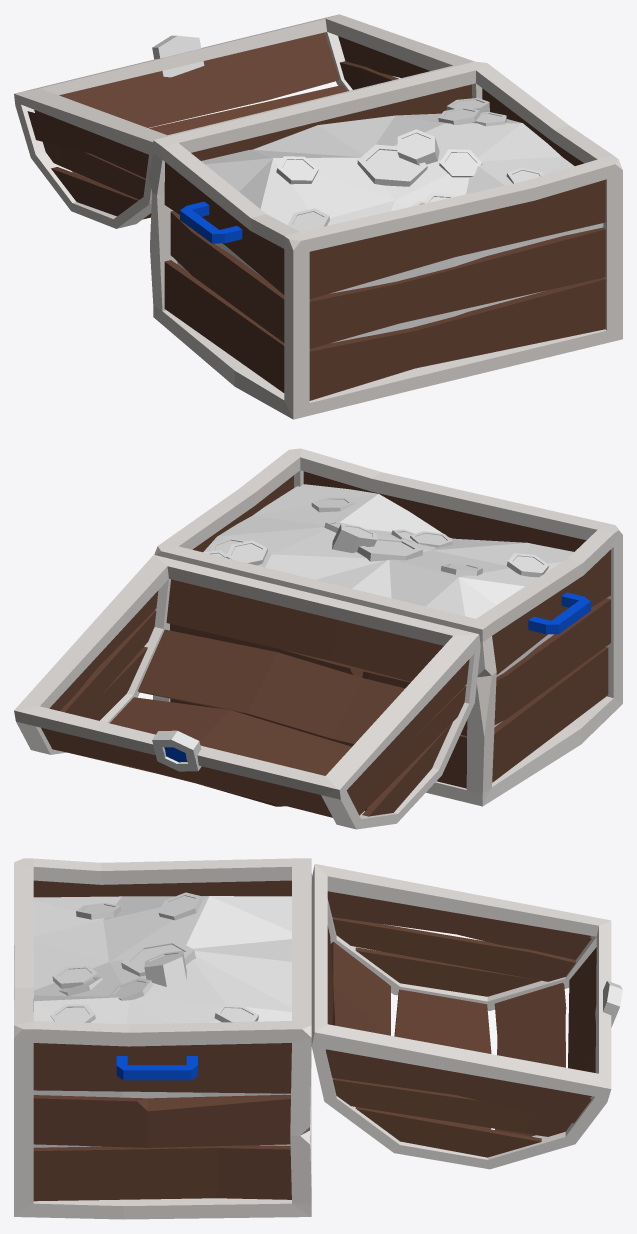
File: Treasure Chest Open.fbx
3 views of the same model, one above another, from view 1: azimuth 30°, elevation 25°; view 2: azimuth 150°, elevation 25°; view 3: azimuth 270°, elevation 25° (orthographic). The views are drawn at different scales.
Parts seen in each view (by area): view 1: Treasure Chest, Treasure Chest Lid; view 2: Treasure Chest Lid, Treasure Chest; view 3: Treasure Chest, Treasure Chest Lid.
Part boxes in pixels (x1,y1,x2,y2): Treasure Chest: [148, 61, 622, 419]; Treasure Chest Lid: [14, 14, 474, 228]; Treasure Chest Lid: [14, 555, 480, 829]; Treasure Chest: [153, 448, 622, 806]; Treasure Chest: [14, 858, 311, 1219]; Treasure Chest Lid: [311, 864, 622, 1169].
Bounding box in the file's own units: 0.9221 × 0.4299 × 1.21.
